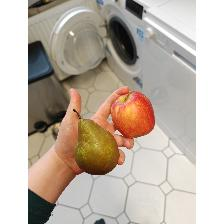Apfel: (110, 91, 156, 139)
Birne: (72, 108, 120, 176)
